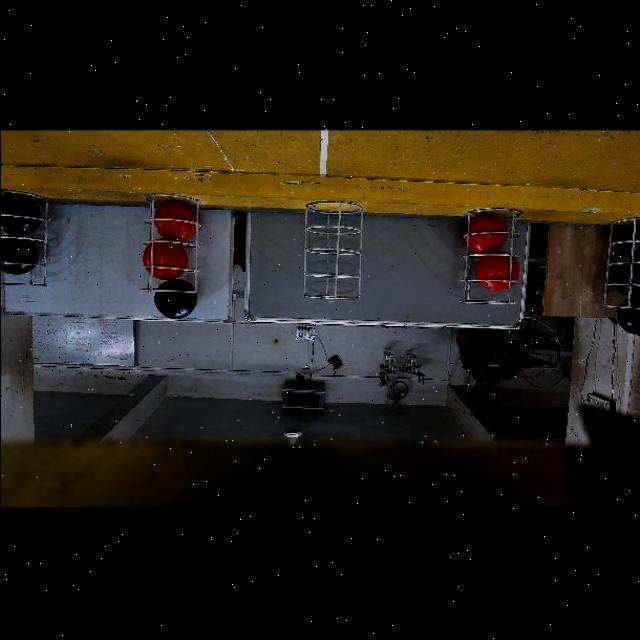P: (0, 193, 40, 235), (154, 278, 196, 318), (0, 237, 38, 274), (614, 296, 640, 334), (613, 262, 640, 295), (619, 222, 640, 259)
R: (153, 199, 196, 239), (142, 241, 187, 279), (467, 211, 507, 251), (475, 252, 518, 289)
S: (137, 189, 201, 293), (454, 206, 516, 304), (305, 199, 363, 301), (0, 198, 50, 290), (604, 216, 640, 310)
